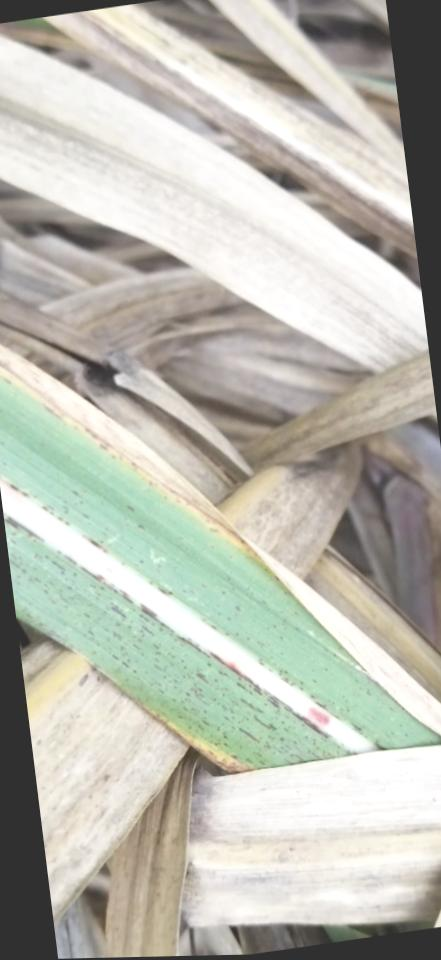RedRot: (306, 707, 330, 727), (104, 567, 115, 576)
Rust: (209, 651, 261, 692), (282, 706, 333, 739), (6, 515, 46, 544), (175, 633, 211, 660), (139, 608, 175, 634), (79, 533, 109, 556), (78, 565, 102, 584), (239, 697, 264, 715), (41, 403, 63, 421), (237, 727, 260, 744), (271, 695, 293, 712), (251, 713, 271, 730), (234, 681, 254, 696), (138, 602, 157, 617), (110, 606, 128, 620), (262, 691, 279, 705), (140, 624, 156, 638), (102, 581, 118, 595), (49, 559, 66, 572), (62, 553, 77, 567), (194, 672, 209, 685), (155, 585, 169, 598), (313, 700, 328, 712), (265, 698, 280, 709), (110, 630, 123, 642), (4, 519, 18, 530), (348, 721, 362, 732), (9, 558, 21, 570), (7, 482, 20, 493), (120, 595, 134, 605), (329, 712, 343, 722), (31, 551, 42, 563), (1, 376, 14, 386), (117, 588, 129, 598), (130, 642, 142, 652), (57, 594, 69, 604), (119, 660, 130, 670), (79, 511, 90, 521), (81, 611, 92, 621), (45, 596, 56, 606), (252, 687, 262, 697), (267, 723, 277, 733), (98, 443, 108, 453), (19, 490, 30, 499), (109, 653, 120, 662), (151, 664, 162, 673), (352, 727, 363, 736), (198, 698, 209, 707), (199, 581, 208, 591), (124, 504, 135, 512), (262, 688, 273, 696), (309, 751, 320, 759), (189, 706, 200, 714), (96, 573, 105, 582), (233, 604, 242, 613), (187, 588, 196, 597), (179, 587, 188, 596), (155, 562, 164, 571), (62, 520, 72, 528), (39, 505, 49, 513), (70, 489, 80, 497), (45, 504, 55, 512), (85, 629, 95, 637), (279, 676, 289, 684), (244, 757, 254, 765), (55, 515, 64, 523), (8, 538, 17, 546), (24, 612, 33, 620), (150, 643, 160, 650), (282, 758, 292, 765), (109, 453, 117, 461), (139, 475, 147, 483), (9, 553, 17, 561), (61, 505, 70, 512), (387, 706, 396, 713), (221, 742, 230, 749), (294, 754, 303, 761), (272, 710, 281, 717), (156, 688, 165, 695), (136, 524, 146, 530), (130, 668, 138, 675), (152, 657, 160, 664), (42, 588, 49, 596), (20, 568, 28, 575), (162, 494, 169, 502), (266, 667, 274, 674), (292, 610, 300, 617), (226, 553, 234, 560), (222, 715, 230, 722), (102, 627, 110, 634), (47, 580, 55, 587), (109, 582, 116, 589), (205, 662, 212, 669), (114, 621, 121, 628), (310, 678, 317, 685), (43, 554, 50, 561), (137, 558, 144, 565), (157, 626, 164, 633), (149, 621, 156, 628), (225, 615, 232, 622), (322, 666, 329, 673), (210, 607, 217, 614), (103, 526, 110, 533), (124, 522, 131, 529), (284, 744, 291, 751), (228, 697, 235, 704), (228, 708, 235, 715), (119, 645, 126, 652), (47, 511, 55, 517), (142, 617, 150, 623), (257, 661, 265, 667), (209, 624, 217, 630), (277, 737, 285, 743), (257, 760, 265, 766), (201, 720, 209, 726), (88, 584, 96, 590), (196, 687, 204, 693), (262, 745, 271, 750), (216, 670, 223, 676), (222, 672, 229, 678), (167, 590, 174, 596), (126, 624, 133, 630), (128, 619, 135, 625), (309, 694, 316, 700), (56, 549, 63, 555), (61, 499, 68, 505), (117, 455, 124, 461), (147, 480, 153, 487), (223, 631, 230, 637), (215, 611, 222, 617), (98, 539, 104, 546), (127, 544, 133, 551), (101, 531, 108, 537), (222, 735, 229, 741), (229, 755, 236, 761), (283, 714, 290, 720), (276, 749, 283, 755), (255, 752, 262, 758), (223, 687, 229, 694), (93, 591, 100, 597), (184, 692, 191, 698), (181, 706, 188, 712), (172, 678, 179, 684), (31, 566, 37, 573), (193, 690, 198, 698), (119, 561, 125, 567), (10, 531, 16, 537), (170, 654, 176, 660), (153, 482, 159, 488), (220, 590, 226, 596), (397, 723, 403, 729), (365, 691, 371, 697), (214, 602, 220, 608), (106, 542, 112, 548), (282, 727, 288, 733), (285, 724, 291, 730), (279, 720, 285, 726), (262, 702, 268, 708), (198, 693, 204, 699), (179, 699, 185, 705), (172, 638, 178, 644), (168, 662, 174, 668), (71, 572, 78, 577), (58, 570, 65, 575), (147, 581, 154, 586), (244, 636, 251, 641), (278, 746, 285, 751), (66, 586, 73, 591), (136, 638, 143, 643), (246, 684, 252, 689), (236, 677, 242, 682), (138, 614, 144, 619), (298, 687, 304, 692), (31, 539, 37, 544), (63, 510, 69, 515), (78, 500, 84, 505), (166, 651, 171, 657), (389, 730, 394, 736), (385, 733, 390, 739), (374, 738, 380, 743), (303, 735, 309, 740), (271, 624, 277, 629), (293, 626, 298, 632), (264, 625, 269, 631), (230, 586, 235, 592), (209, 543, 214, 549), (265, 715, 271, 720), (292, 740, 297, 746), (271, 745, 276, 751), (113, 605, 119, 610), (138, 629, 144, 634), (148, 682, 154, 687), (213, 742, 220, 746), (153, 652, 162, 655), (120, 618, 125, 623), (99, 586, 104, 591), (73, 501, 78, 506), (283, 670, 288, 675), (277, 672, 282, 677), (234, 632, 239, 637), (291, 681, 296, 686), (365, 688, 370, 693), (353, 678, 358, 683), (357, 686, 362, 691), (326, 698, 331, 703), (343, 699, 348, 704), (322, 703, 327, 708), (332, 653, 337, 658), (321, 749, 326, 754), (321, 753, 326, 758), (282, 619, 287, 624), (280, 622, 285, 627), (255, 640, 260, 645), (259, 642, 264, 647), (261, 600, 266, 605), (226, 577, 231, 582), (245, 586, 250, 591), (230, 725, 235, 730), (215, 726, 220, 731), (283, 749, 288, 754), (322, 739, 327, 744), (238, 745, 243, 750), (216, 738, 221, 743), (234, 702, 239, 707), (291, 726, 296, 731), (213, 679, 218, 684), (172, 685, 177, 690), (105, 638, 110, 643), (131, 608, 136, 613), (402, 733, 408, 737), (105, 606, 109, 612), (192, 682, 196, 688), (221, 731, 227, 735), (126, 658, 130, 664), (91, 651, 97, 655), (42, 584, 48, 588), (278, 669, 283, 673), (345, 709, 350, 713), (363, 735, 368, 739), (301, 723, 305, 728), (335, 751, 340, 755), (291, 720, 296, 724), (264, 740, 268, 745), (289, 753, 294, 757), (271, 751, 276, 755), (199, 727, 204, 731), (33, 577, 38, 581), (109, 602, 114, 606), (177, 715, 182, 719), (171, 699, 176, 703), (131, 635, 136, 639), (141, 652, 145, 657), (157, 643, 162, 647), (221, 693, 225, 698), (15, 575, 20, 579), (16, 581, 20, 586), (95, 643, 100, 647), (58, 589, 63, 593), (299, 681, 303, 685), (331, 701, 335, 705), (337, 745, 341, 749), (315, 746, 319, 750), (266, 734, 270, 738), (319, 737, 323, 741), (187, 726, 191, 730), (212, 698, 216, 702), (216, 702, 220, 706), (222, 707, 226, 711), (182, 666, 186, 670), (180, 659, 184, 663), (37, 580, 41, 584), (63, 577, 67, 581), (189, 687, 193, 691), (203, 716, 207, 720), (245, 726, 249, 730), (229, 730, 233, 734), (181, 675, 185, 679), (185, 672, 189, 676), (141, 634, 145, 638), (170, 647, 174, 651), (179, 644, 183, 648), (163, 665, 167, 669), (70, 596, 74, 600), (97, 617, 101, 621), (311, 742, 316, 745), (258, 737, 263, 740), (230, 716, 235, 719), (122, 642, 127, 645), (269, 656, 273, 659), (279, 652, 283, 655), (278, 636, 282, 639), (289, 683, 292, 687), (284, 677, 288, 680), (366, 681, 370, 684), (339, 708, 343, 711), (312, 739, 316, 742), (245, 718, 249, 721), (209, 741, 213, 744), (209, 735, 213, 738), (220, 723, 224, 726), (203, 709, 206, 713), (220, 705, 224, 708), (236, 721, 240, 724), (103, 611, 106, 615), (188, 718, 191, 722), (189, 672, 193, 675), (126, 639, 130, 642), (143, 671, 147, 674), (169, 633, 173, 636), (214, 688, 218, 691), (215, 684, 218, 688), (220, 688, 223, 692), (172, 674, 177, 676), (327, 752, 330, 755), (251, 751, 254, 754), (198, 725, 201, 728), (194, 730, 197, 733), (195, 669, 198, 672), (277, 709, 280, 712), (187, 676, 190, 679), (191, 677, 194, 680), (162, 676, 165, 679), (168, 680, 171, 683), (125, 653, 128, 656), (121, 654, 124, 657), (157, 683, 160, 686), (162, 633, 165, 636), (231, 691, 234, 694), (258, 659, 262, 661), (167, 675, 170, 677)
Yellow: (146, 712, 251, 774)
